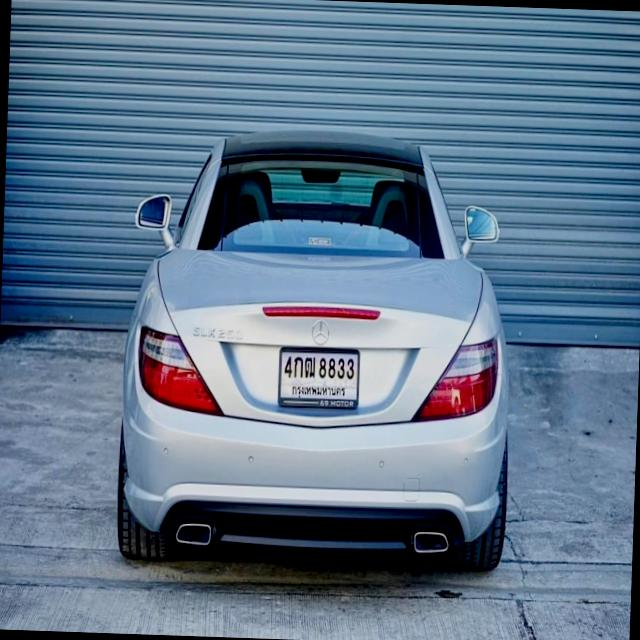license_plate: (275, 344, 361, 412)
